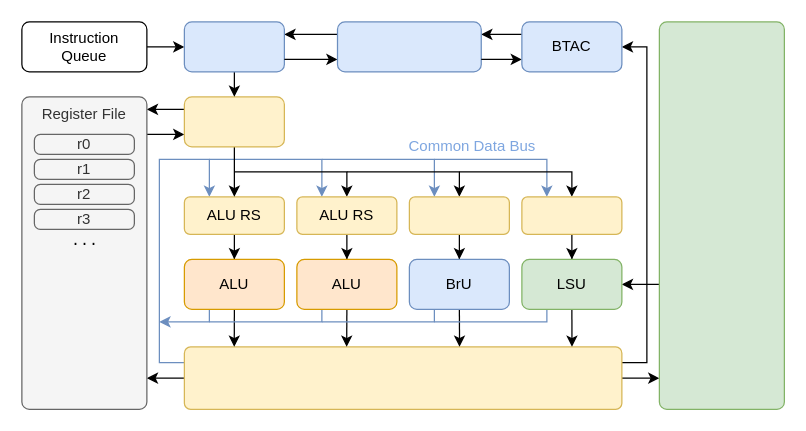
Image size: 806x431. Some labels were removed from this diagram. The centre of each missing label's shape, as x and y in pixels:
"Branch Predictor" belongs at pixel 408 46.
"BrU RS" belongs at pixel 458 215.
"IFU" belongs at pixel 233 46.
"ISU" belongs at pixel 233 121.
"LSU RS" belongs at pixel 571 215.
"Memory" belongs at pixel 721 215.
"Re-order Buffer" belongs at pixel 402 377.
